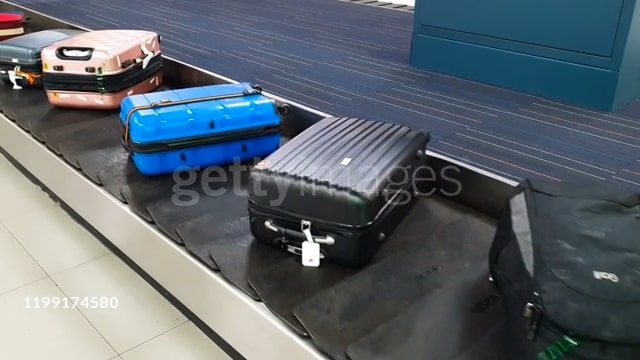baggage: (242, 112, 444, 267), (491, 180, 640, 360), (112, 81, 285, 176), (42, 28, 169, 117), (1, 26, 86, 93)
